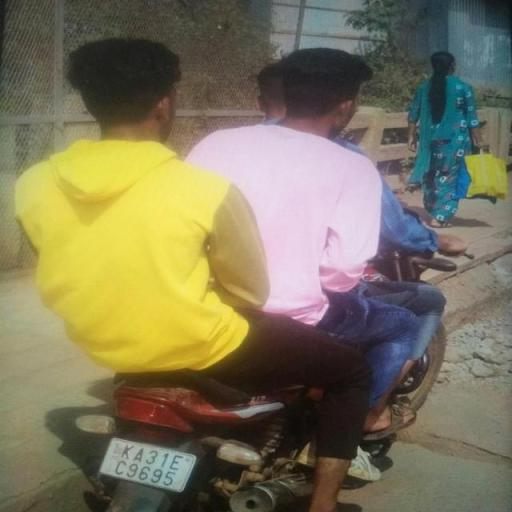tripple riding: (10, 33, 474, 383)
